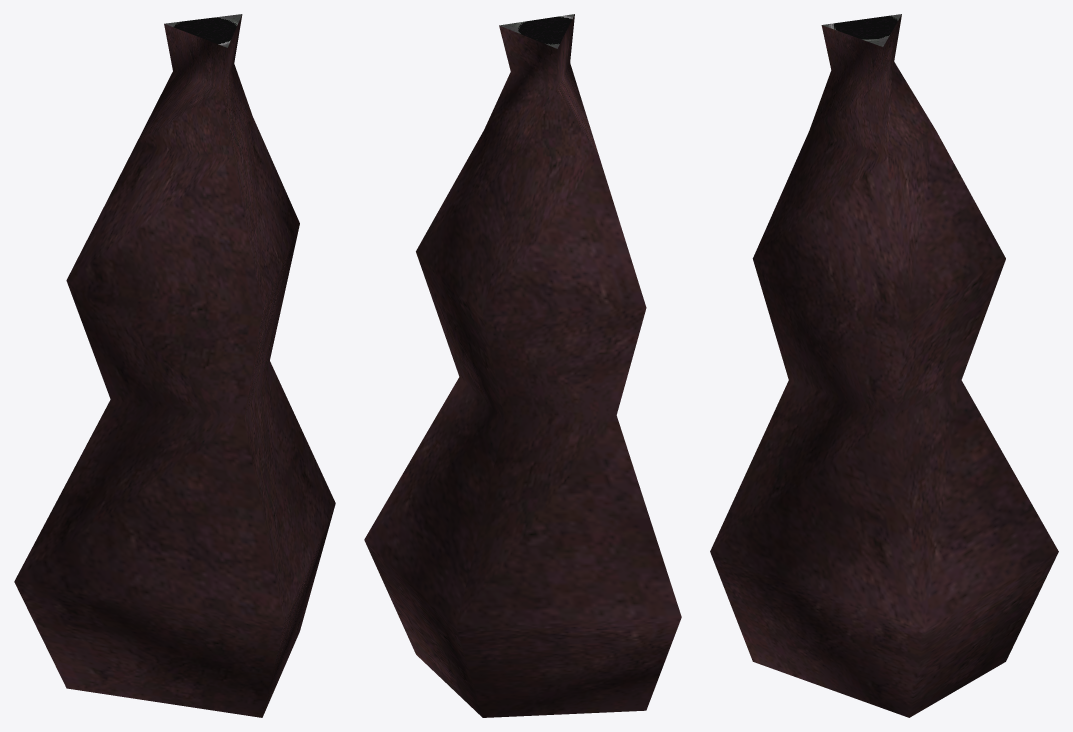
File: edb_con_tato_bottle_empty_s04_l2.fbx
3 renders of one model, left to right at view 1: azimuth 30°, elevation 25°; view 2: azimuth 150°, elevation 25°; view 3: azimuth 270°, elevation 25°, orthographic.
Parts seen in each view (by area): view 1: mesh_node; view 2: mesh_node; view 3: mesh_node.
Boxes of the visible parts, <box> form: mesh_node: <box>14,14,335,717</box>; mesh_node: <box>364,14,681,717</box>; mesh_node: <box>710,14,1058,717</box>.
Size of the model in its own units: 0.2896 by 0.5546 by 0.2754.
